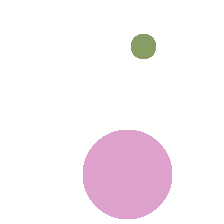circle: (83, 130, 171, 218), (131, 34, 155, 58)
